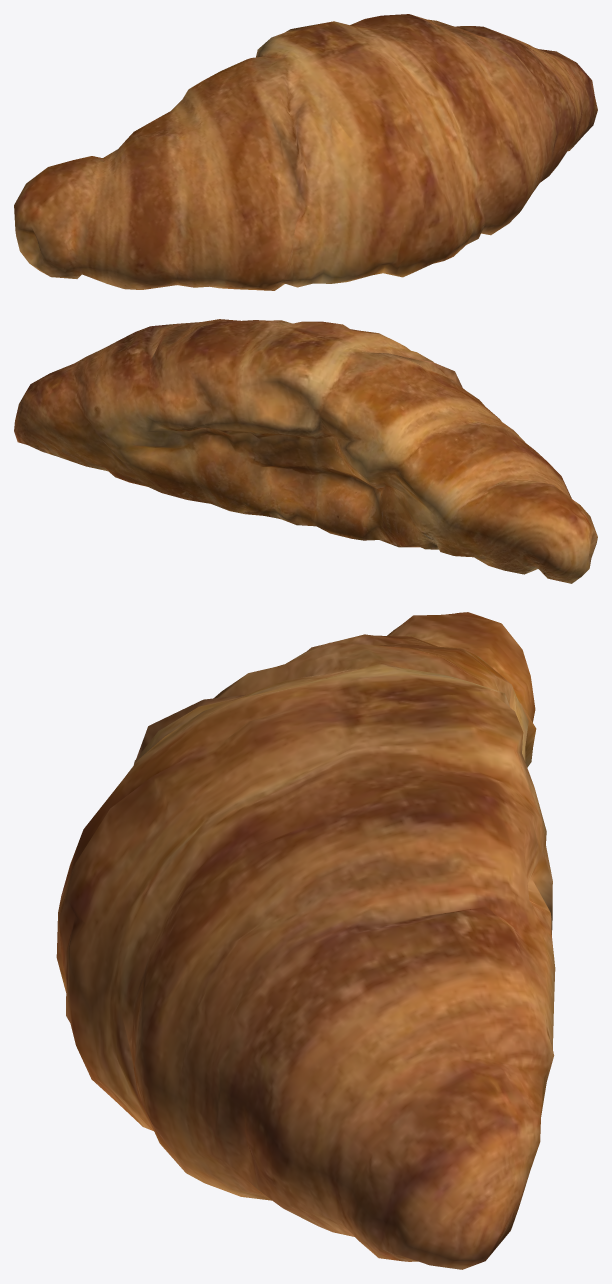
The model's file is croissant.glb.
3 renders of one model, top to bottom at view 1: azimuth 30°, elevation 25°; view 2: azimuth 150°, elevation 25°; view 3: azimuth 270°, elevation 25°, orthographic. The views are drawn at different scales.
Visible parts, largest first — view 1: croissant; view 2: croissant; view 3: croissant.
Boxes of the visible parts, bbox=[...] form: croissant: bbox=[14, 14, 597, 290]; croissant: bbox=[14, 319, 597, 583]; croissant: bbox=[56, 612, 555, 1269].
Size of the model in its own units: 0.2 by 0.062 by 0.0755.
Materials: 1 (1 with a texture image).
